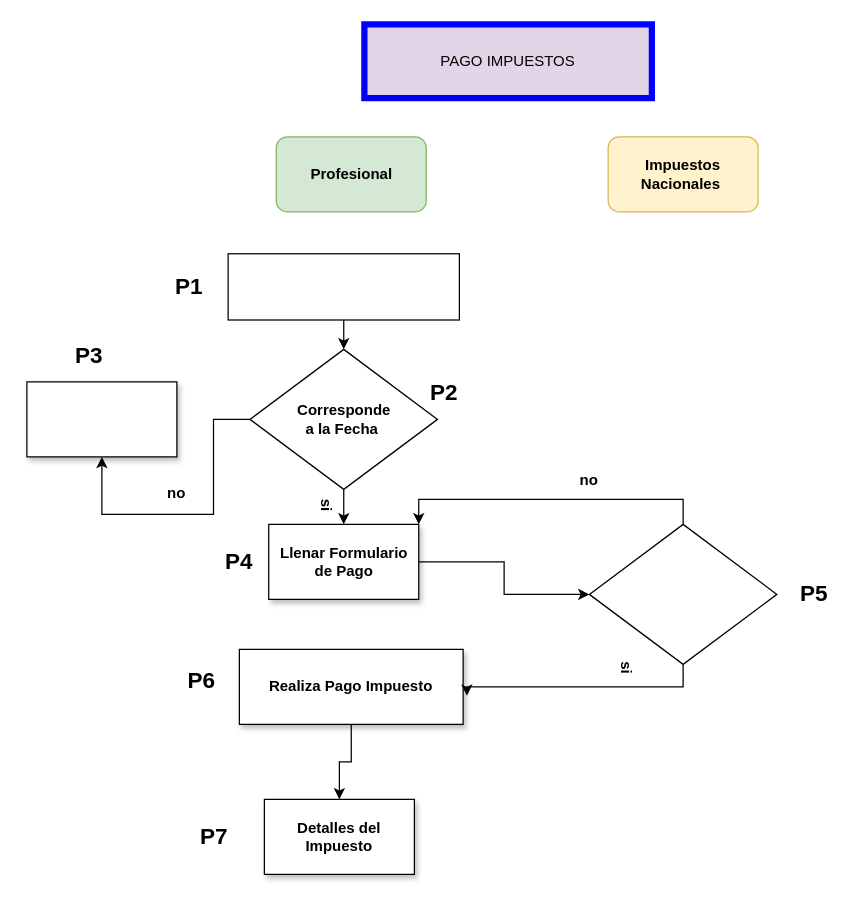
Image size: 861x905. Some labels were removed from this diagram. The centre of each missing label's shape, as x and y in pixels:
"No Permitir" belongs at (102,421).
"Validar Formulario" belongs at (682,593).
"Verificar Fecha de Pago" belongs at (343,286).
